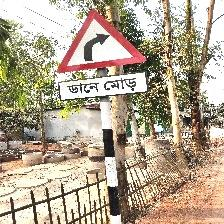Right-turn: (55, 8, 149, 103)
